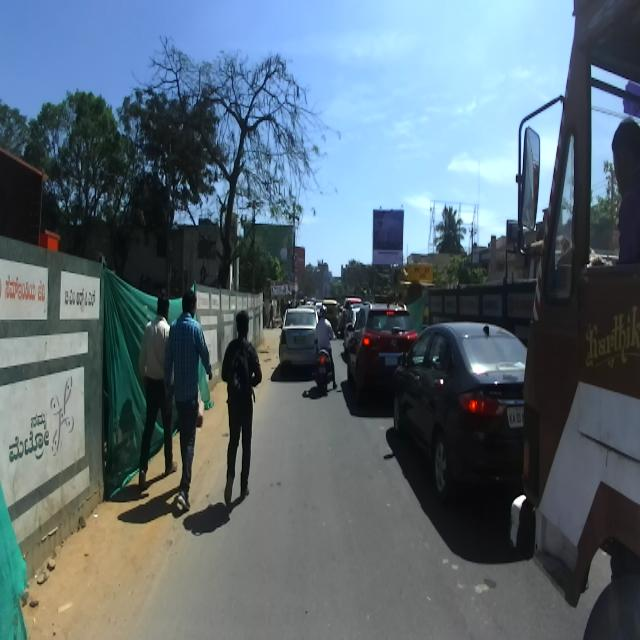car ahead at: (392, 317, 521, 503), (276, 299, 319, 381)
person ahead at: (170, 288, 212, 522), (218, 302, 262, 508)
